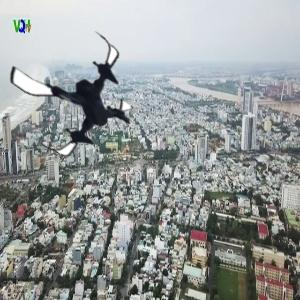drone: (8, 27, 142, 161)
